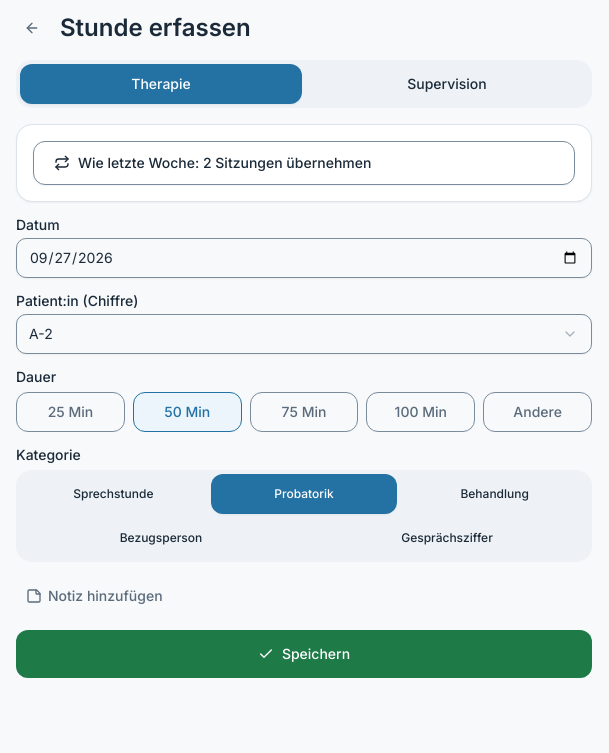
Test: NewSessionClient › meldet übersprungene Doppelte und lässt sich abbrechen
The image size is (609, 753).
Click the button "Wie letzte Woche: 2 Sitzungen übernehmen". click: (304, 163)
box: [33, 141, 575, 185]
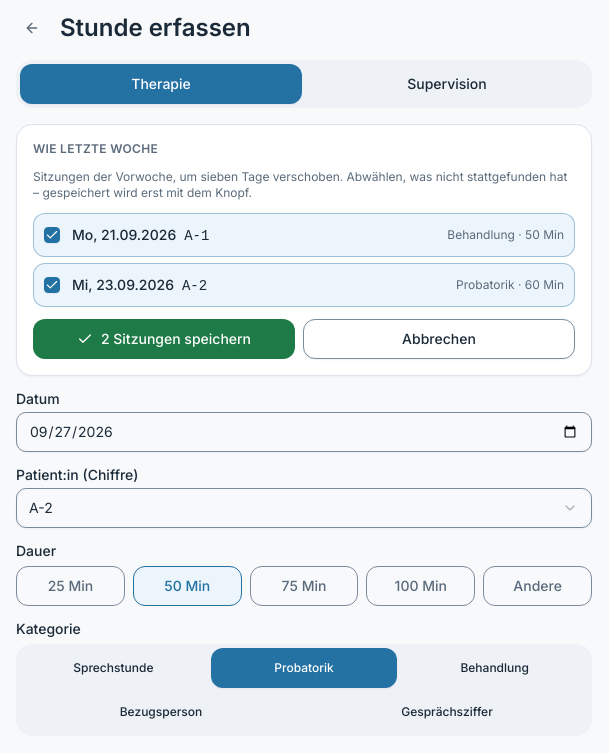
Click the button "Abbrechen". click: (439, 339)
box: [303, 319, 575, 359]
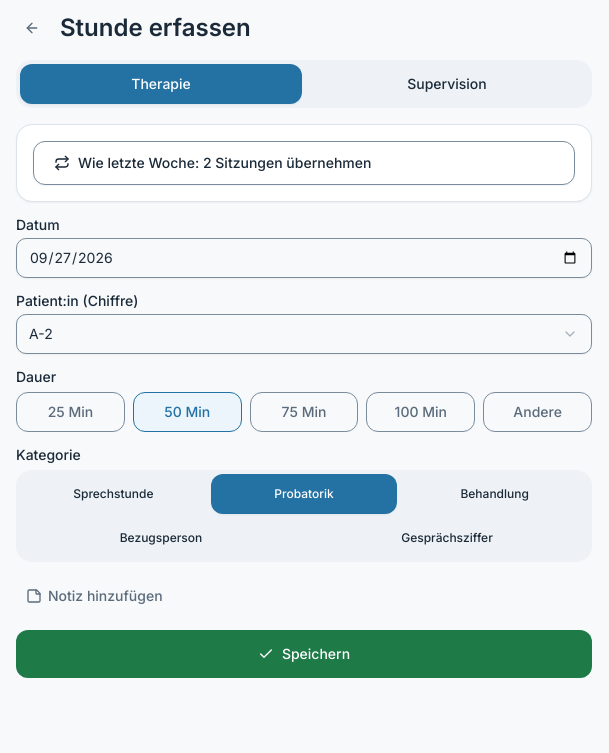
Result: no checkboxes are shown
Click the button "Wie letzte Woche: 2 Sitzungen übernehmen". click: (304, 163)
box: [33, 141, 575, 185]
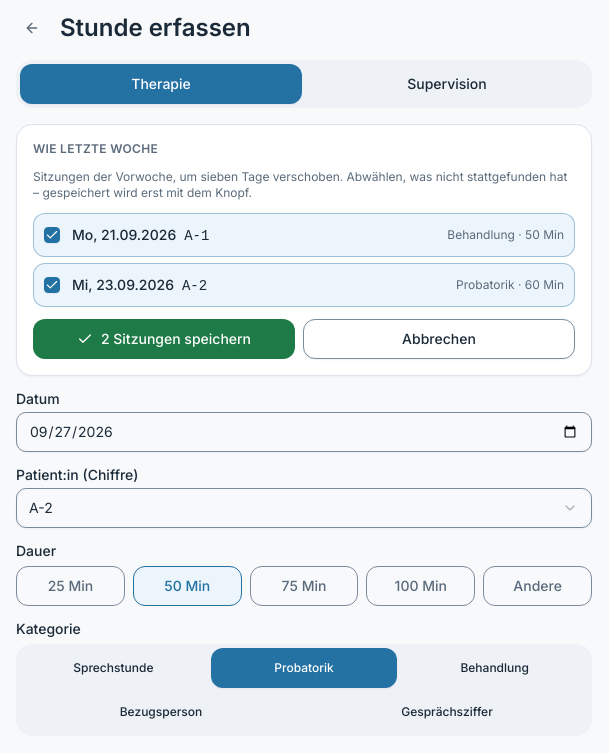
Click the button "2 Sitzungen speichern". click: (164, 339)
box: [33, 319, 295, 359]
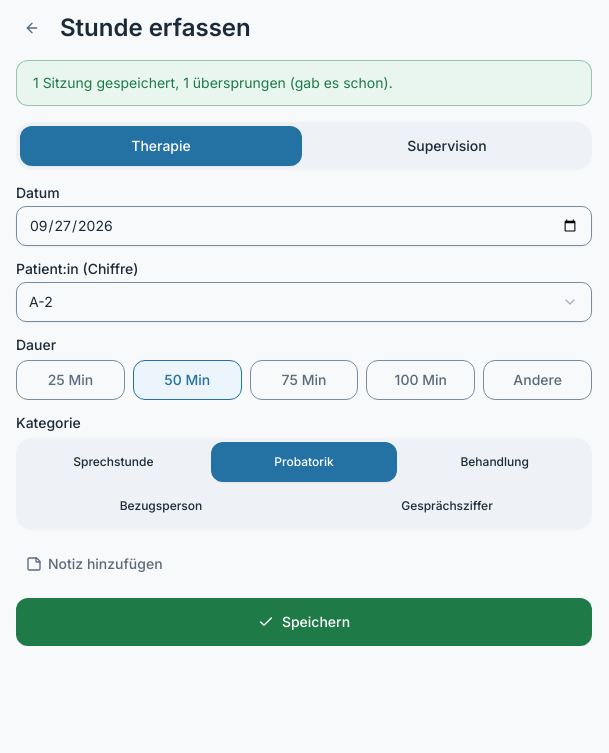
Result: the message reads "1 Sitzung gespeichert, 1 übersprungen (gab es schon)." at [16, 60, 592, 106]
